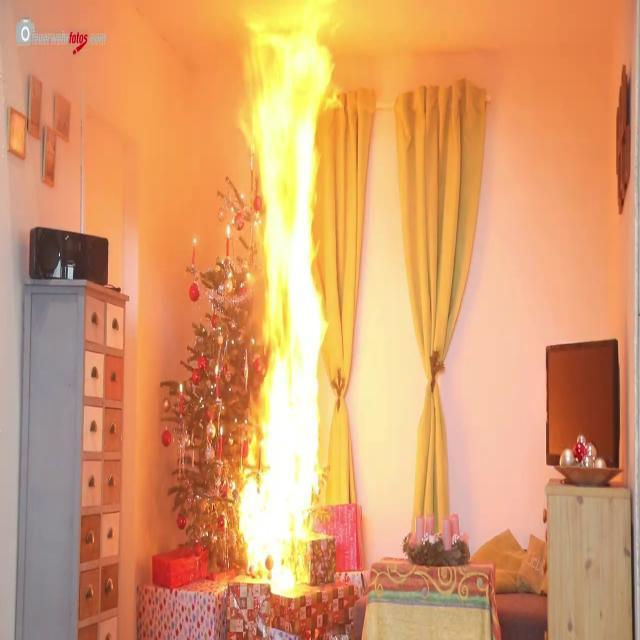Fire: (232, 17, 334, 598)
